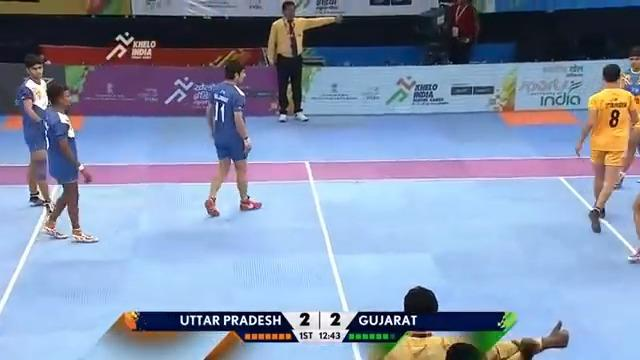Player: (574, 62, 638, 233), (38, 81, 99, 243), (203, 58, 262, 217), (14, 52, 55, 211), (613, 45, 639, 189)
referee: (381, 285, 569, 359), (265, 0, 343, 122)
